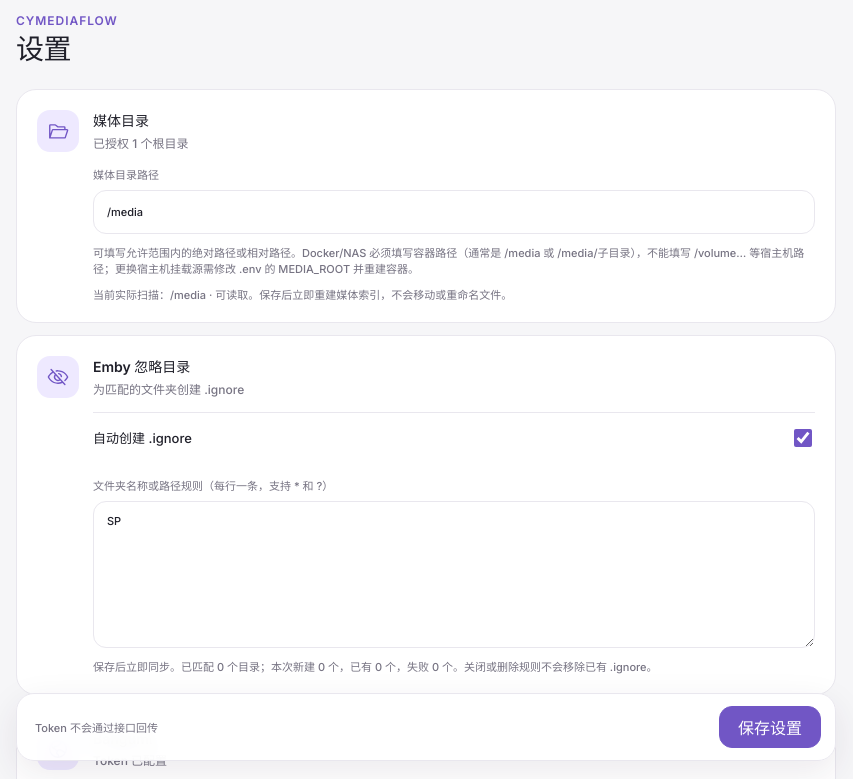
SettingsPage › shows the effective media root after switching it
Step 1. Replace the text in the field showing "/media" with "anime" → [454, 212], box [93,190,815,234]
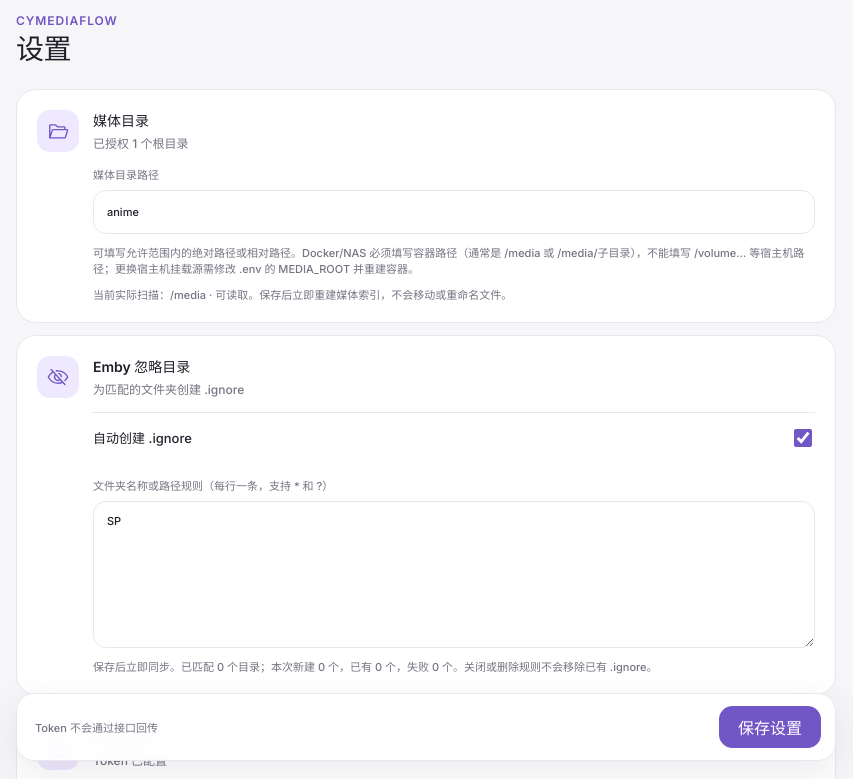
Step 2. Click the button "保存设置" → [770, 727], box [719,706,821,748]
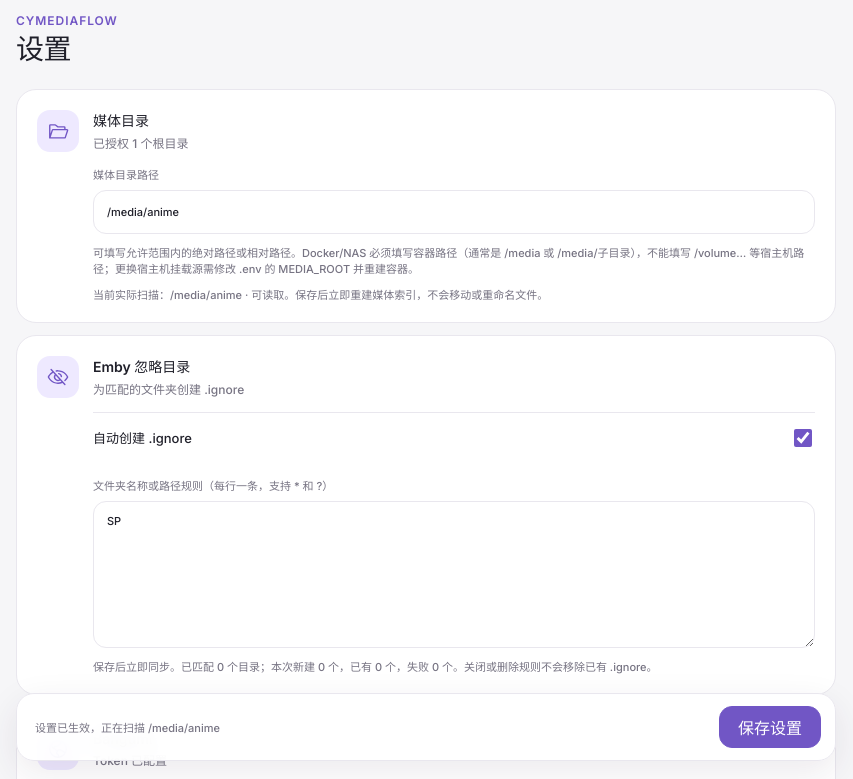
Check: the text "设置已生效，正在扫描 /media/anime" is shown, box [35,719,220,735]
